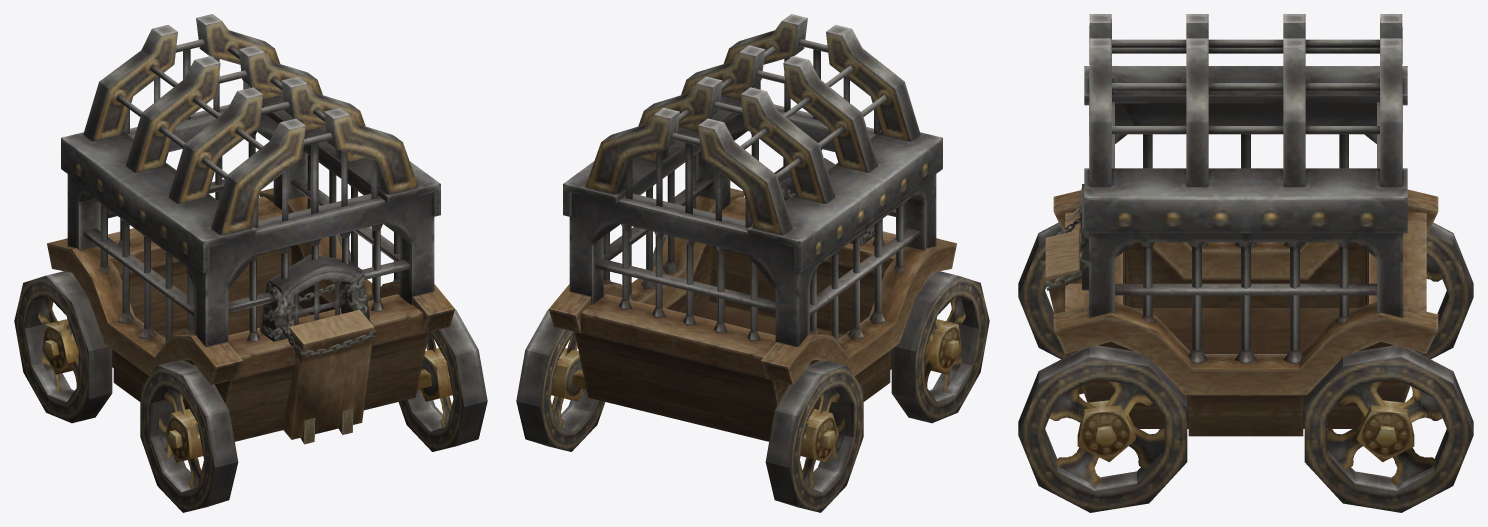
File: S_Build_Desert008.FBX
3 views of the same model, side by side, from view 1: azimuth 30°, elevation 25°; view 2: azimuth 150°, elevation 25°; view 3: azimuth 270°, elevation 25° (orthographic). The views are drawn at different scales.
Visible parts, largest first — view 1: S_Build_Desert008; view 2: S_Build_Desert008; view 3: S_Build_Desert008.
Boxes of the visible parts, x1,y1,x2,y2 form: S_Build_Desert008: [14, 14, 487, 512]; S_Build_Desert008: [516, 14, 989, 512]; S_Build_Desert008: [1018, 14, 1473, 512].
Size of the model in its own units: 707 by 859 by 872.
